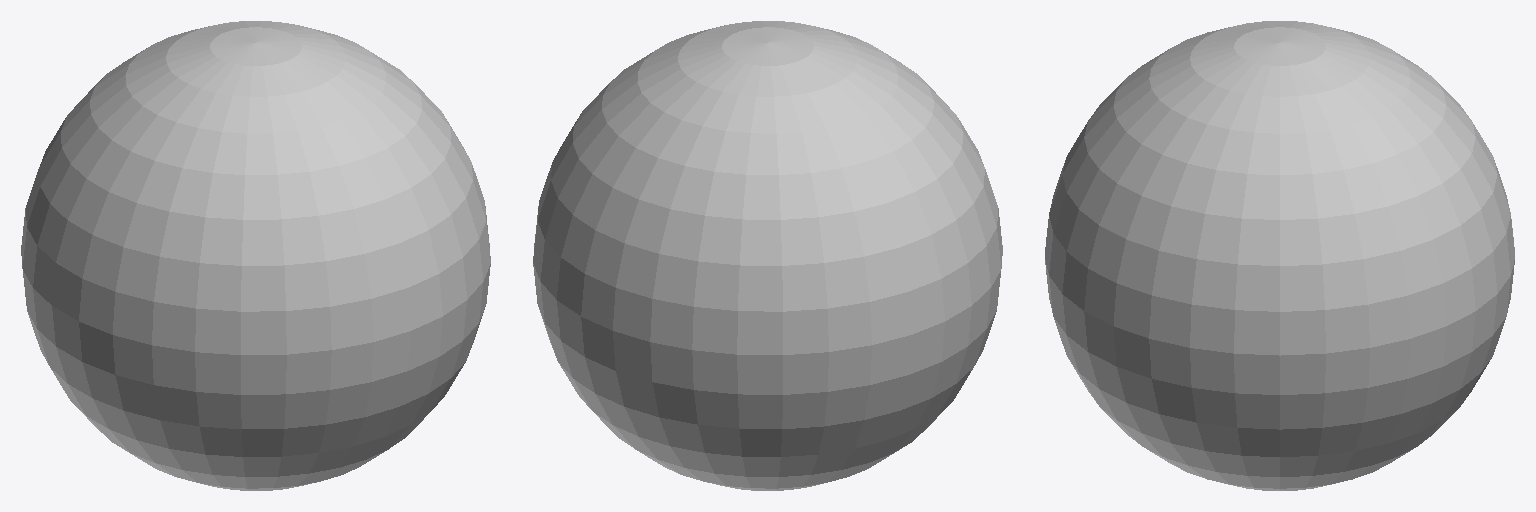
The model's file is Czlowiek.obj.
The picture shows the model from 3 angles: view 1: azimuth 30°, elevation 25°; view 2: azimuth 150°, elevation 25°; view 3: azimuth 270°, elevation 25°; orthographic projection.
Visible parts, largest first — view 1: Sphere_Sphere.001; view 2: Sphere_Sphere.001; view 3: Sphere_Sphere.001.
Boxes of the visible parts, <box> form: Sphere_Sphere.001: <box>21,21,490,490</box>; Sphere_Sphere.001: <box>533,21,1002,490</box>; Sphere_Sphere.001: <box>1045,21,1514,490</box>.
Bounding box in the file's own units: 2 × 2 × 2.